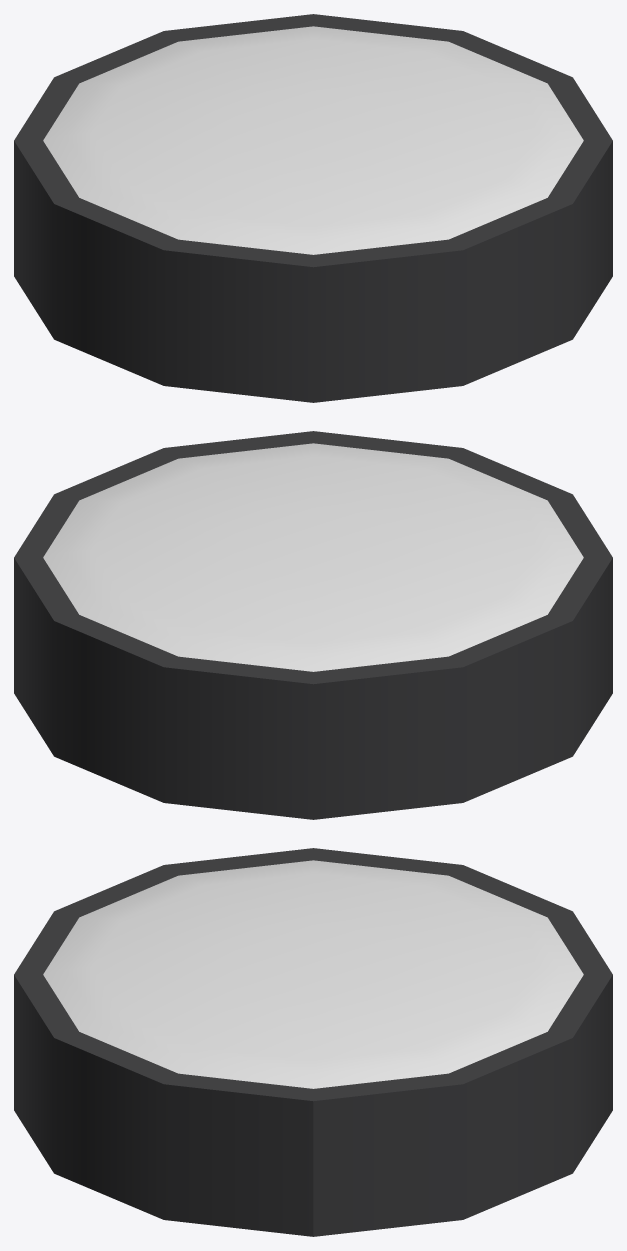
File: Medidor_Aguja.fbx
3 renders of one model, top to bottom at view 1: azimuth 30°, elevation 25°; view 2: azimuth 150°, elevation 25°; view 3: azimuth 270°, elevation 25°, orthographic.
Parts seen in each view (by area): view 1: Medidor_Aguja, Cristal_Medidor; view 2: Medidor_Aguja, Cristal_Medidor; view 3: Medidor_Aguja, Cristal_Medidor.
Boxes of the visible parts, x1,y1,x2,y2 form: Medidor_Aguja: (14, 14, 612, 402); Cristal_Medidor: (43, 26, 583, 254); Medidor_Aguja: (14, 431, 612, 819); Cristal_Medidor: (43, 443, 583, 671); Medidor_Aguja: (14, 848, 612, 1236); Cristal_Medidor: (43, 860, 583, 1088).
Bounding box in the file's own units: 0.2 × 0.2 × 0.055.
